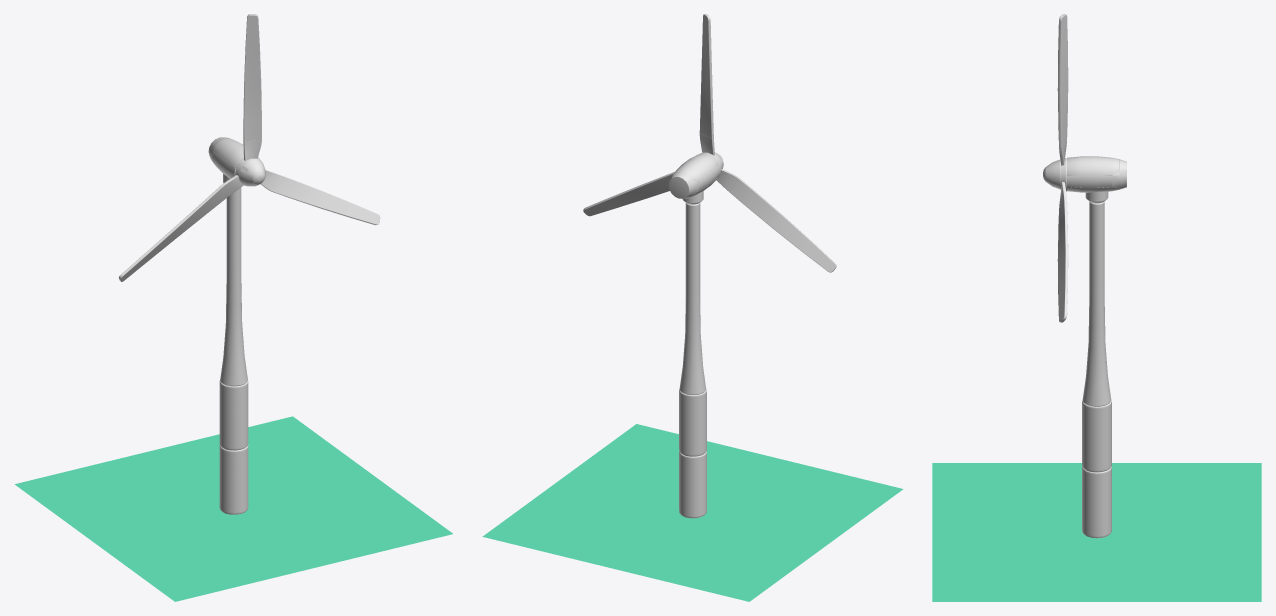
Rendered from windrad_green.fbx.
3 views of the same model, side by side, from view 1: azimuth 30°, elevation 25°; view 2: azimuth 150°, elevation 25°; view 3: azimuth 270°, elevation 25° (orthographic). The views are drawn at different scales.
Visible parts, largest first — view 1: two_two, Windrad_01:cylinder84, Windrad_01:polymsh_extracted67, Windrad_01:polymsh_detached134, polymsh_detached134, Windrad_01:polymsh_extracted72, Windrad_01:polymsh_extracted71, Windrad_01:polymsh_extracted65; view 2: two_two, Windrad_01:cylinder84, Windrad_01:polymsh_extracted71, polymsh_detached134, Windrad_01:polymsh_detached134, Windrad_01:polymsh_extracted67, Windrad_01:polymsh_extracted72, Windrad_01:polymsh_extracted65, Windrad_01:polymsh_detached131; view 3: two_two, Windrad_01:cylinder84, Windrad_01:polymsh_detached134, polymsh_detached134, Windrad_01:polymsh_extracted67, Windrad_01:polymsh_extracted65, Windrad_01:polymsh_extracted72, Windrad_01:polymsh_detached132.
Boxes of the visible parts, left/top/right/bottom form: two_two: left=15, top=416, right=452, bottom=601; Windrad_01:cylinder84: left=220, top=187, right=247, bottom=386; Windrad_01:polymsh_extracted67: left=243, top=14, right=261, bottom=141; Windrad_01:polymsh_detached134: left=219, top=380, right=248, bottom=450; polymsh_detached134: left=219, top=444, right=248, bottom=514; Windrad_01:polymsh_extracted72: left=273, top=174, right=380, bottom=225; Windrad_01:polymsh_extracted71: left=119, top=186, right=226, bottom=281; Windrad_01:polymsh_extracted65: left=213, top=137, right=258, bottom=178; two_two: left=482, top=424, right=903, bottom=601; Windrad_01:cylinder84: left=679, top=203, right=706, bottom=394; Windrad_01:polymsh_extracted71: left=729, top=178, right=836, bottom=272; polymsh_detached134: left=679, top=451, right=706, bottom=518; Windrad_01:polymsh_detached134: left=679, top=389, right=706, bottom=456; Windrad_01:polymsh_extracted67: left=699, top=14, right=713, bottom=138; Windrad_01:polymsh_extracted72: left=583, top=172, right=674, bottom=216; Windrad_01:polymsh_extracted65: left=674, top=153, right=719, bottom=197; Windrad_01:polymsh_detached131: left=668, top=172, right=699, bottom=198; two_two: left=932, top=463, right=1261, bottom=601; Windrad_01:cylinder84: left=1082, top=201, right=1111, bottom=406; Windrad_01:polymsh_detached134: left=1082, top=400, right=1111, bottom=472; polymsh_detached134: left=1082, top=466, right=1111, bottom=538; Windrad_01:polymsh_extracted67: left=1057, top=14, right=1068, bottom=147; Windrad_01:polymsh_extracted65: left=1067, top=156, right=1119, bottom=192; Windrad_01:polymsh_extracted72: left=1057, top=199, right=1068, bottom=322; Windrad_01:polymsh_detached132: left=1067, top=175, right=1111, bottom=187.
Bounding box in the file's own units: 2 × 3.47 × 2.
